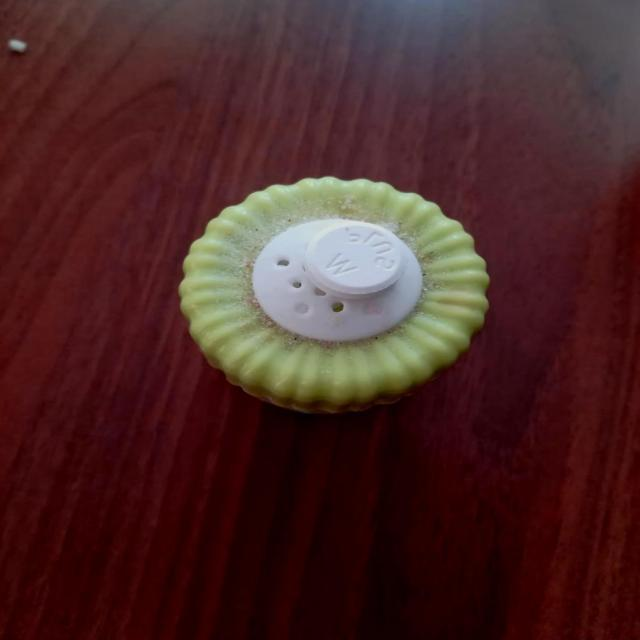pill: (306, 225, 408, 298)
